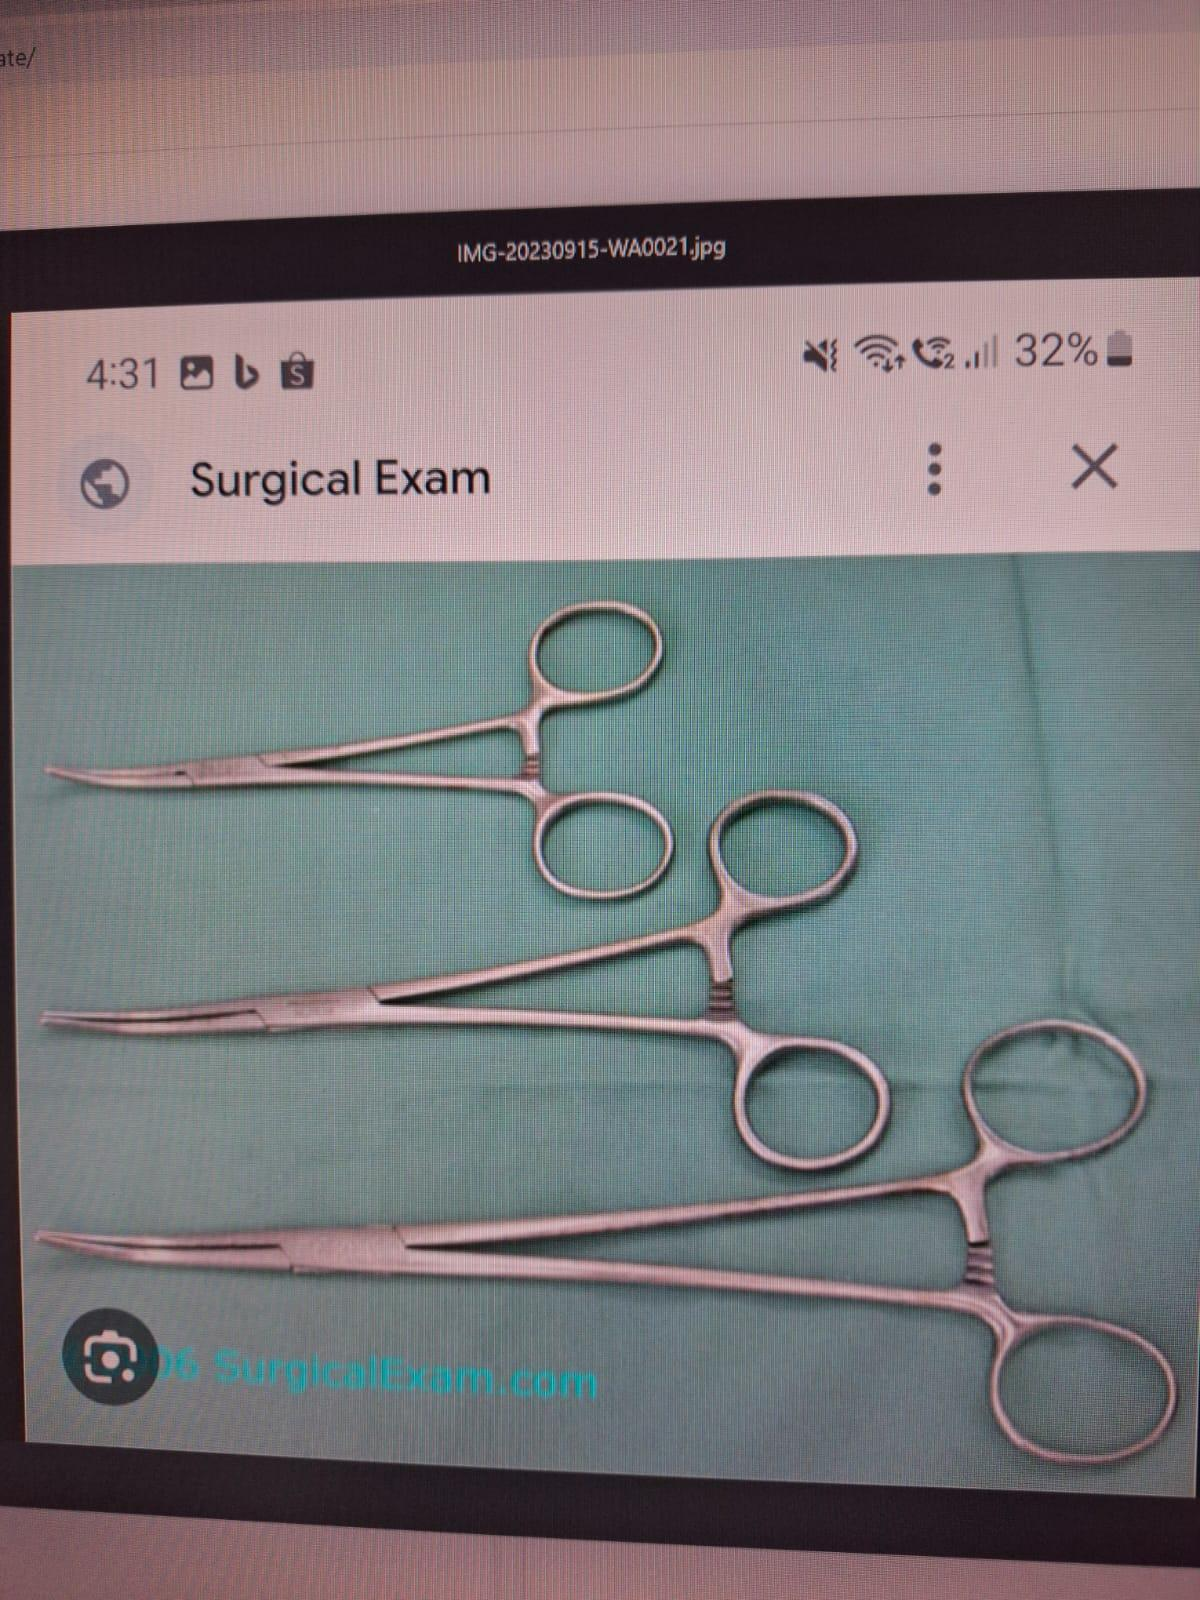Artery Forceps: (30, 1012, 1198, 1488), (35, 785, 898, 1202), (40, 595, 680, 912)
